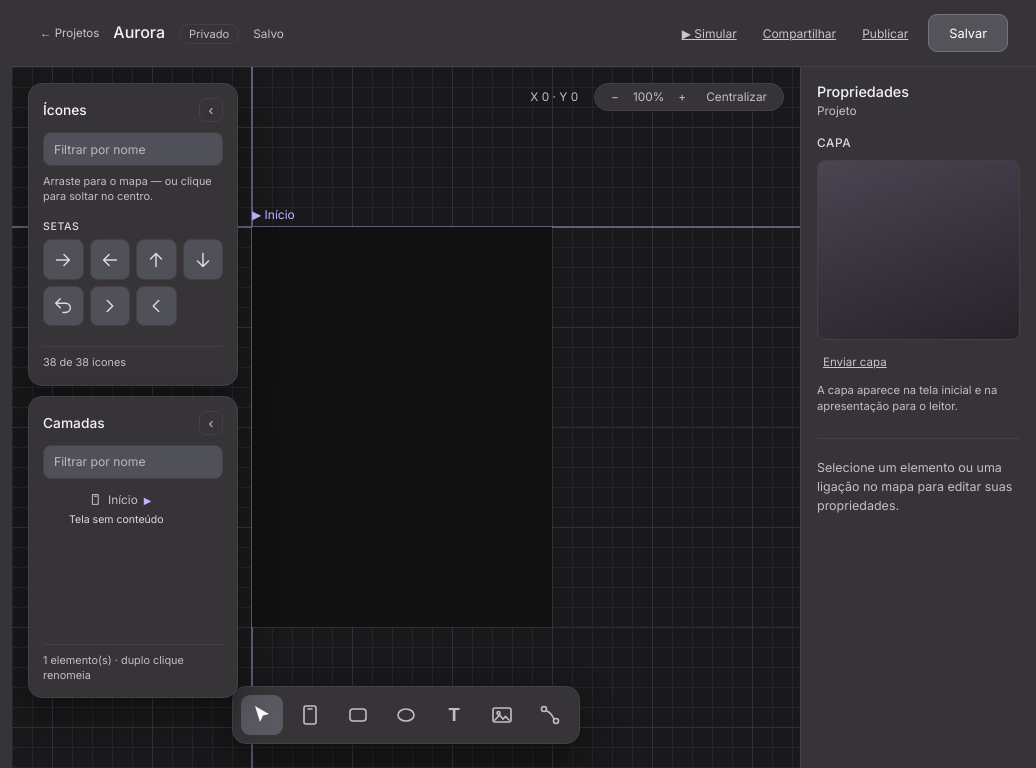
canvas: dono, colaborador e visualização › no conflito, Recarregar busca a versão do servidor
This screenshot has width=1036, height=768.
Click the button "Salvar".
click(968, 33)  # box [928,14,1008,52]
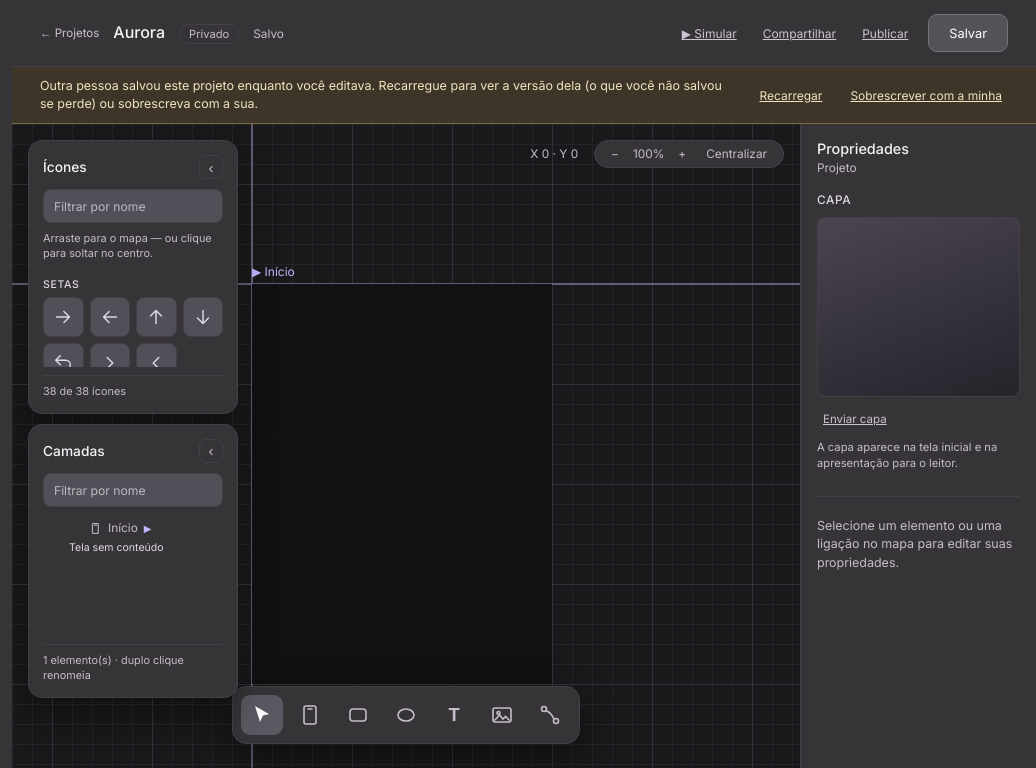
Click the button "Recarregar".
click(791, 95)  # box [754,87,828,104]
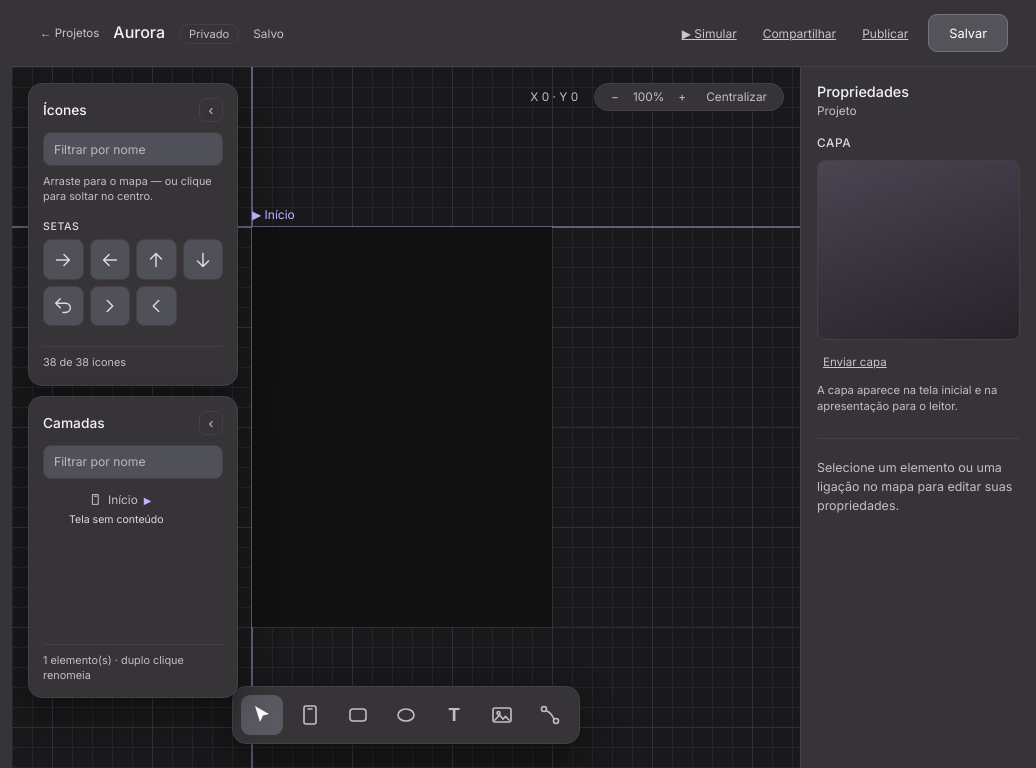
Now the message is gone
